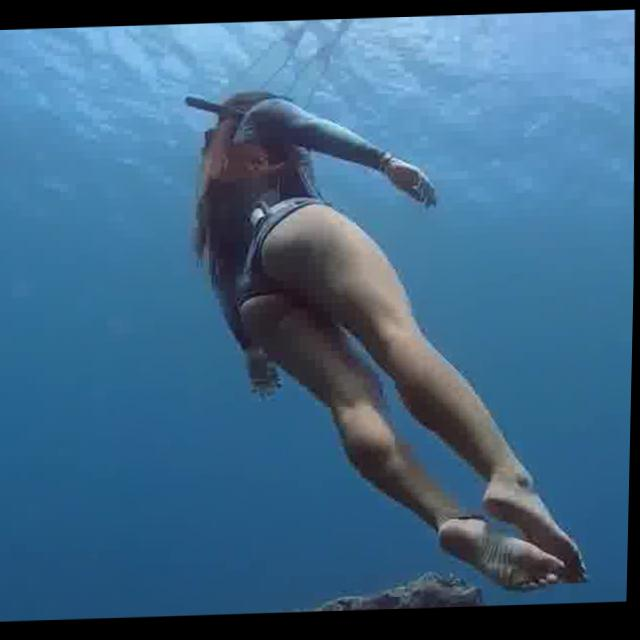human: (170, 66, 621, 616)
